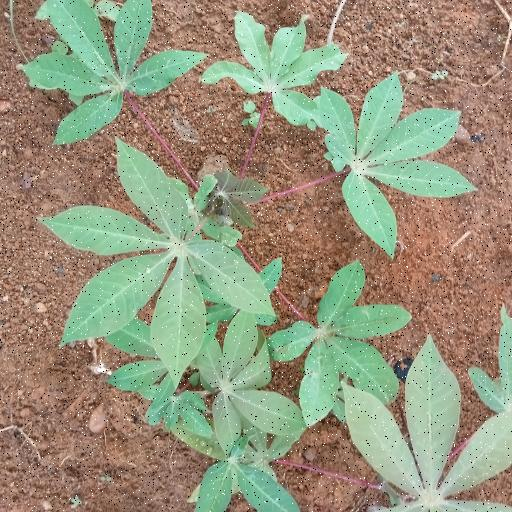Cassava_Mosaic: (59, 150, 268, 368), (344, 337, 512, 512), (22, 0, 200, 137), (222, 19, 340, 121)
